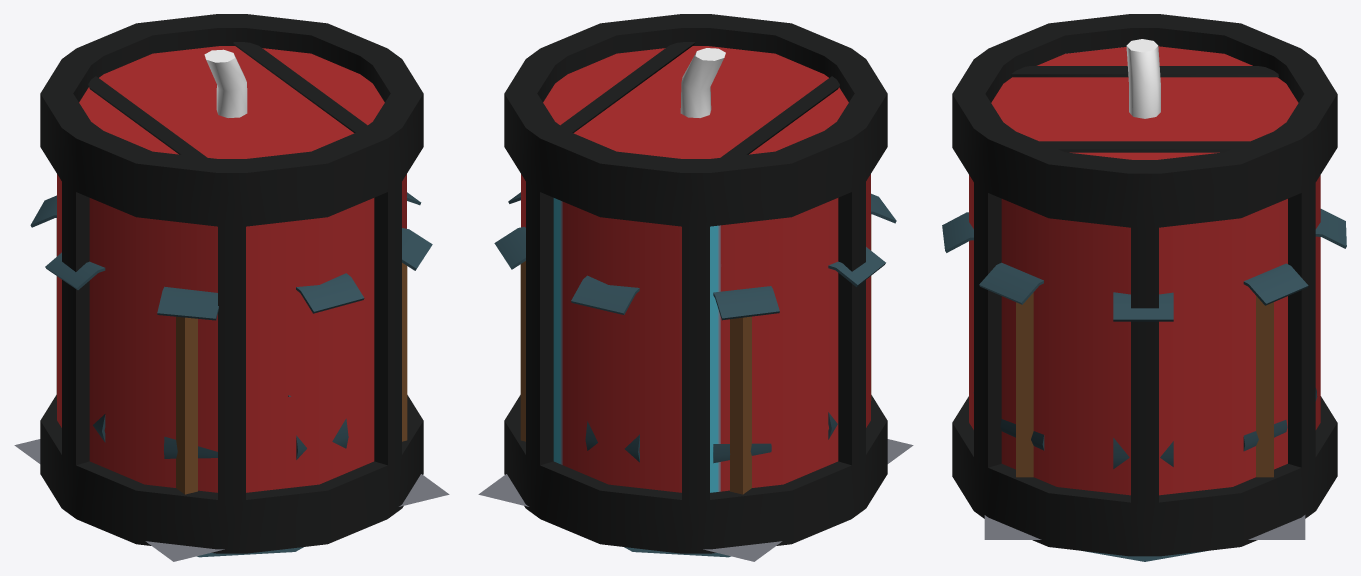
Rendered from SM_Interactuables.fbx.
3 views of the same model, side by side, from view 1: azimuth 30°, elevation 25°; view 2: azimuth 150°, elevation 25°; view 3: azimuth 270°, elevation 25° (orthographic).
Visible parts, largest first — view 1: Barril_Explosivo, Cenizero, Caja_Interactuable, Base_Boton.001; view 2: Barril_Explosivo, Cenizero, Caja_Interactuable, Base_Boton.001; view 3: Barril_Explosivo, Cenizero, Caja_Interactuable, Base_Boton.001.
Boxes of the visible parts, left/top/right/bottom form: Barril_Explosivo: left=40, top=14, right=423, bottom=553; Cenizero: left=30, top=192, right=432, bottom=459; Caja_Interactuable: left=56, top=218, right=407, bottom=494; Base_Boton.001: left=14, top=439, right=449, bottom=561; Barril_Explosivo: left=504, top=14, right=887, bottom=553; Cenizero: left=494, top=192, right=896, bottom=463; Caja_Interactuable: left=520, top=214, right=871, bottom=494; Base_Boton.001: left=478, top=439, right=913, bottom=561; Barril_Explosivo: left=952, top=14, right=1337, bottom=556; Cenizero: left=942, top=209, right=1346, bottom=468; Caja_Interactuable: left=1016, top=292, right=1273, bottom=477; Base_Boton.001: left=984, top=515, right=1305, bottom=561.
Size of the model in its own units: 0.3955 by 0.4925 by 0.3963.
